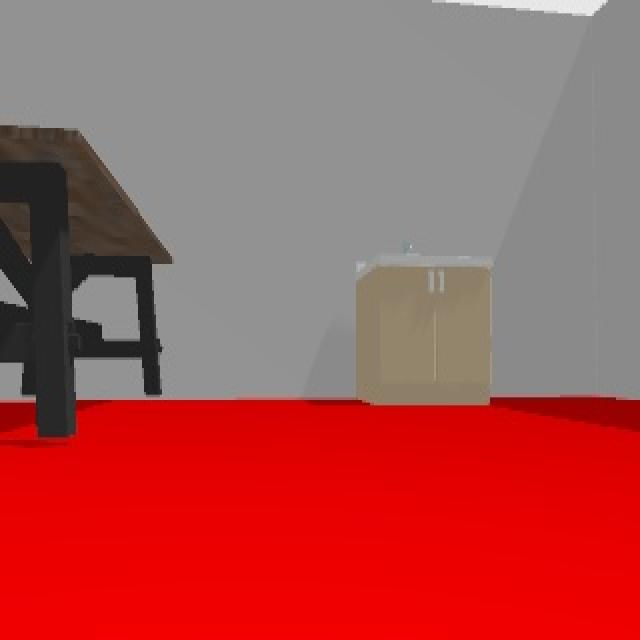dining: (2, 126, 176, 438)
